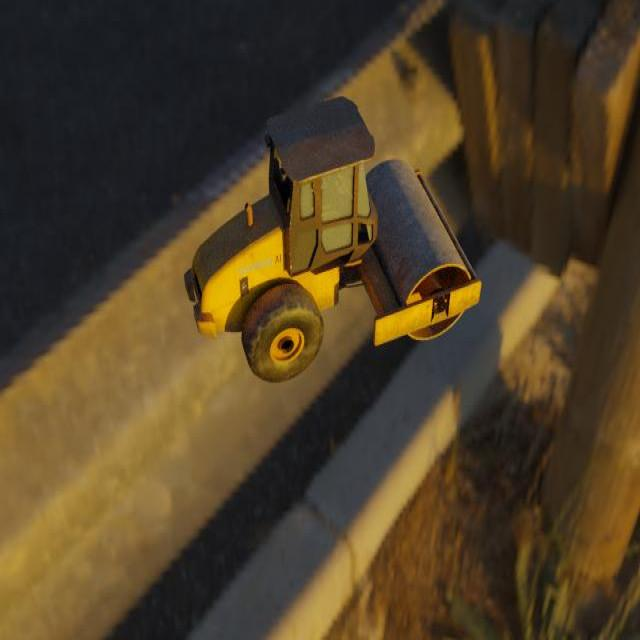Roller: (183, 95, 481, 382)
